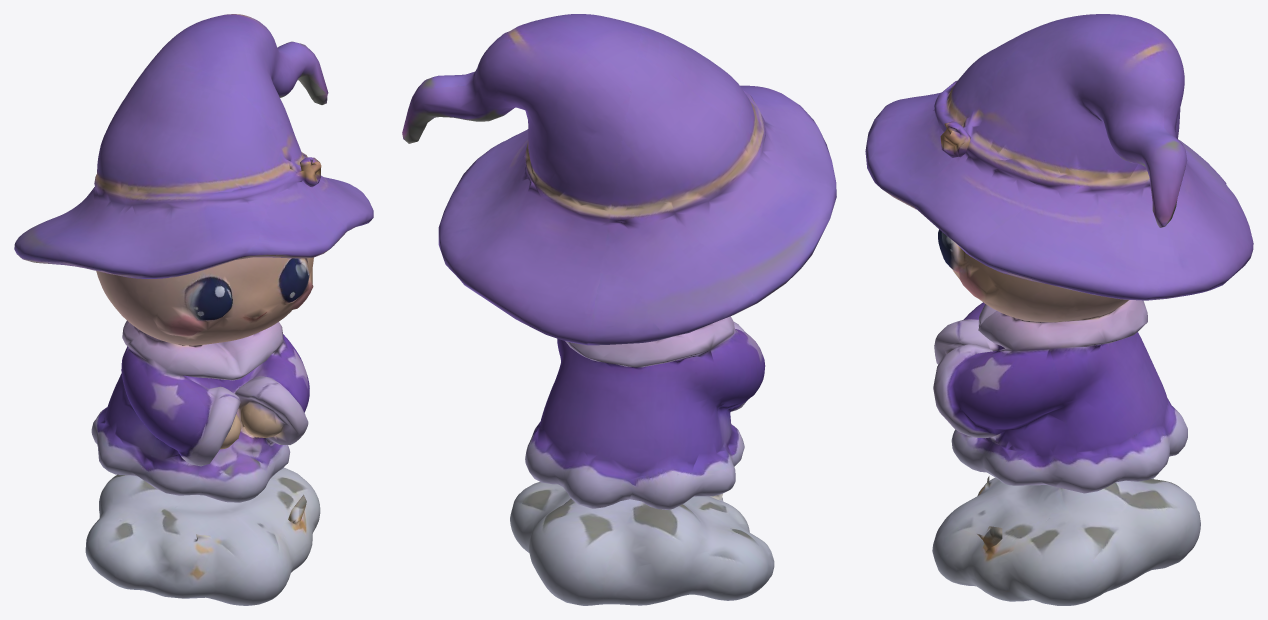
Rendered from lumi.glb.
3 views of the same model, side by side, from view 1: azimuth 30°, elevation 25°; view 2: azimuth 150°, elevation 25°; view 3: azimuth 270°, elevation 25° (orthographic). The views are drawn at different scales.
Visible parts, largest first — view 1: tripo_node_31639a30-7bf8-4493-b418-da1dc67331e8; view 2: tripo_node_31639a30-7bf8-4493-b418-da1dc67331e8; view 3: tripo_node_31639a30-7bf8-4493-b418-da1dc67331e8.
Part boxes in pixels (x1,y1,x2,y2): tripo_node_31639a30-7bf8-4493-b418-da1dc67331e8: (14, 14, 373, 605); tripo_node_31639a30-7bf8-4493-b418-da1dc67331e8: (402, 14, 836, 605); tripo_node_31639a30-7bf8-4493-b418-da1dc67331e8: (865, 14, 1253, 605).
Size of the model in its own units: 0.6641 by 0.9999 by 0.6093.
1 material, 1 textured.
